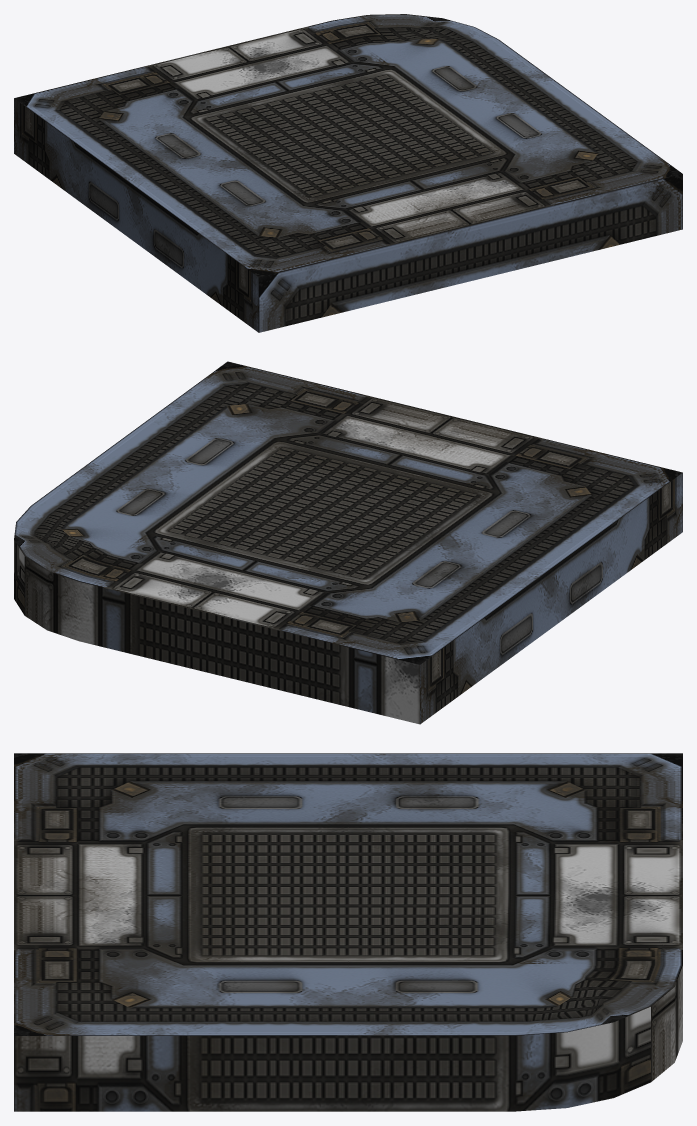
The model's file is strct_FF_Z1_floor_corner.fbx.
3 renders of one model, top to bottom at view 1: azimuth 30°, elevation 25°; view 2: azimuth 150°, elevation 25°; view 3: azimuth 270°, elevation 25°, orthographic. The views are drawn at different scales.
Parts seen in each view (by area): view 1: curvedfloor4; view 2: curvedfloor4; view 3: curvedfloor4.
Part boxes in pixels (x1=…): curvedfloor4: x1=14, y1=14, x2=682, y2=332; curvedfloor4: x1=14, y1=361, x2=682, y2=724; curvedfloor4: x1=14, y1=753, x2=682, y2=1111.
Bounding box in the file's own units: 128 × 16 × 128.
